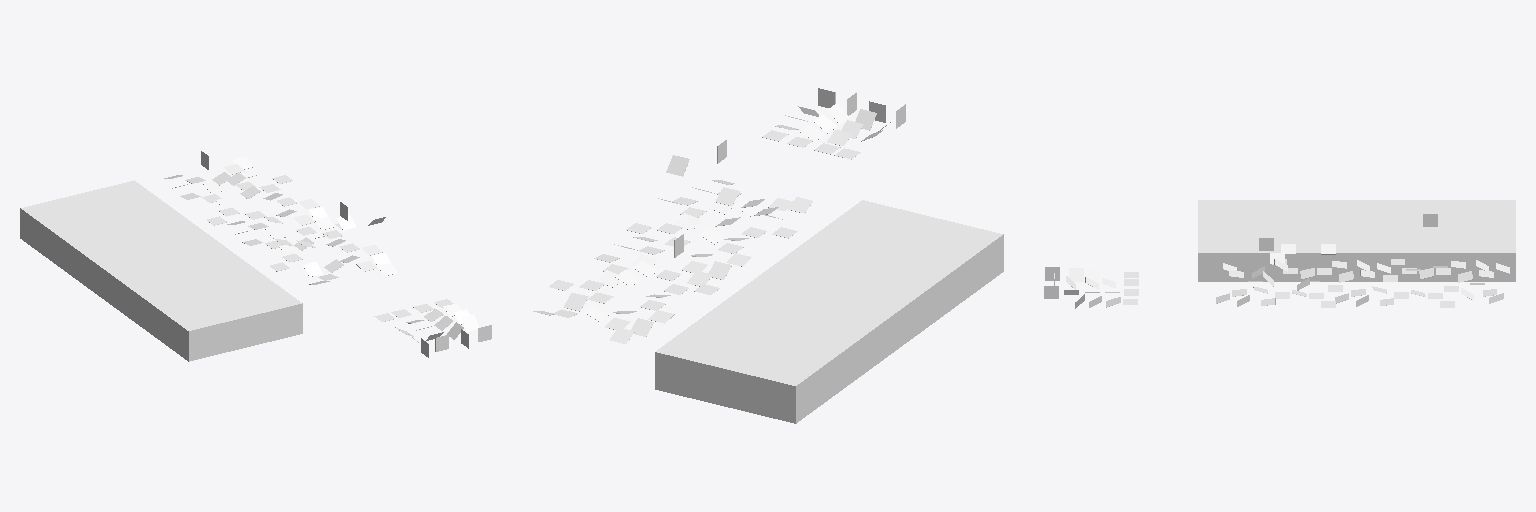
URDF robot description (twister):
<robot name="twister">
  <link name="base_link">
    <visual>
      <origin xyz="0 0 0" rpy="0 0 0" />
      <geometry>
        <mesh filename="package://hpp-rbprm-corba/meshes/twister.stl"/>
      </geometry>
      <material name="white">
        <color rgba="1 1 1 1"/>
      </material>
    </visual>
    <collision>
      <origin xyz="0 0 0" rpy="0 0 0" />
      <geometry>
        <mesh filename="package://hpp-rbprm-corba/meshes/twister.stl"/>
      </geometry>
    </collision>
  </link>
</robot>

--- What the picture shows (computed from the rendered views, not written in the file) ---
The picture shows the robot from 3 angles, left to right: view 1: azimuth 30°, elevation 25°; view 2: azimuth 150°, elevation 25°; view 3: azimuth 270°, elevation 25°; orthographic projection.
Model twister with 1 links and 0 joints (none), rooted at base_link, posed all joints at 0.
Links seen in each view (by area): view 1: base_link; view 2: base_link; view 3: base_link.
Link boxes in pixels (x1=…): base_link: x1=20, y1=151, x2=491, y2=361; base_link: x1=533, y1=88, x2=1003, y2=423; base_link: x1=1044, y1=200, x2=1515, y2=308.
Size in the robot's own frame: 4 by 7.41 by 1.39 metres.
1 mesh visuals loaded from 1 distinct referenced files (1 binary STL).